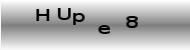8: (125, 14, 138, 28)
H: (34, 8, 50, 22)
U: (56, 6, 71, 21)
e: (97, 24, 112, 35)
p: (72, 11, 85, 26)
